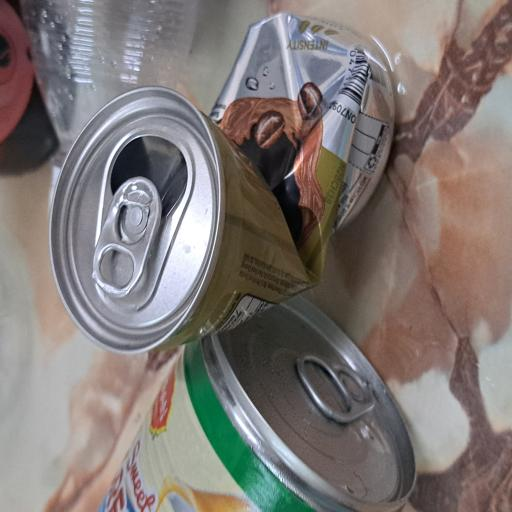can: (121, 63, 377, 512), (0, 130, 163, 512)
pop tab: (165, 120, 251, 211), (67, 394, 119, 506)
